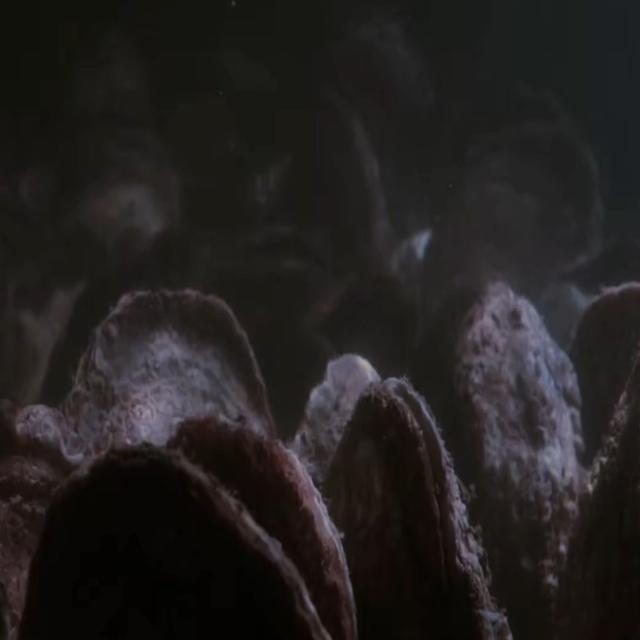Oyster-Closed: (28, 441, 331, 640), (168, 409, 360, 640), (0, 399, 93, 640)
Oyster-Indeterminate: (64, 285, 276, 640), (419, 121, 604, 408), (452, 284, 580, 640), (292, 358, 393, 640), (284, 84, 392, 300), (72, 130, 176, 310), (570, 278, 640, 535)
Oyster-Open: (325, 374, 495, 640), (205, 220, 344, 318)
